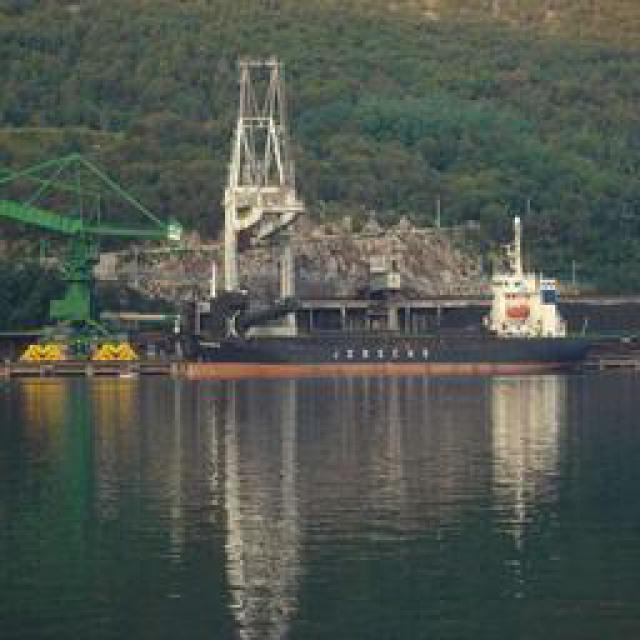Ship: (165, 212, 596, 387)
